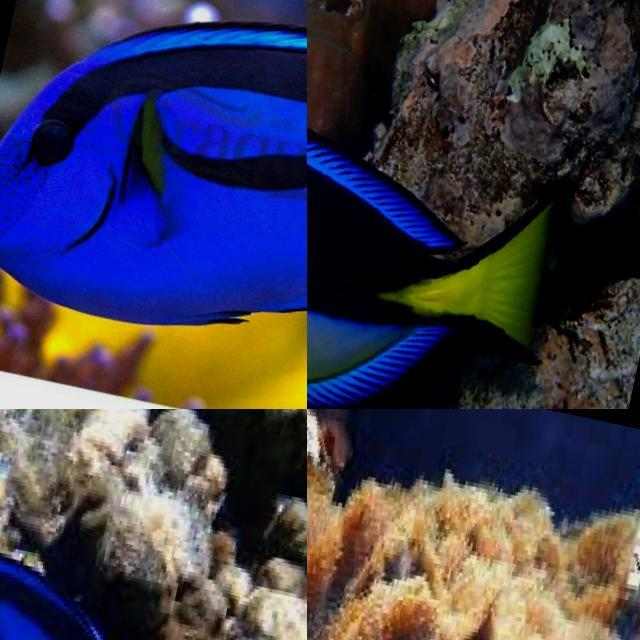BlueTang: (0, 0, 307, 331), (307, 159, 551, 409)
